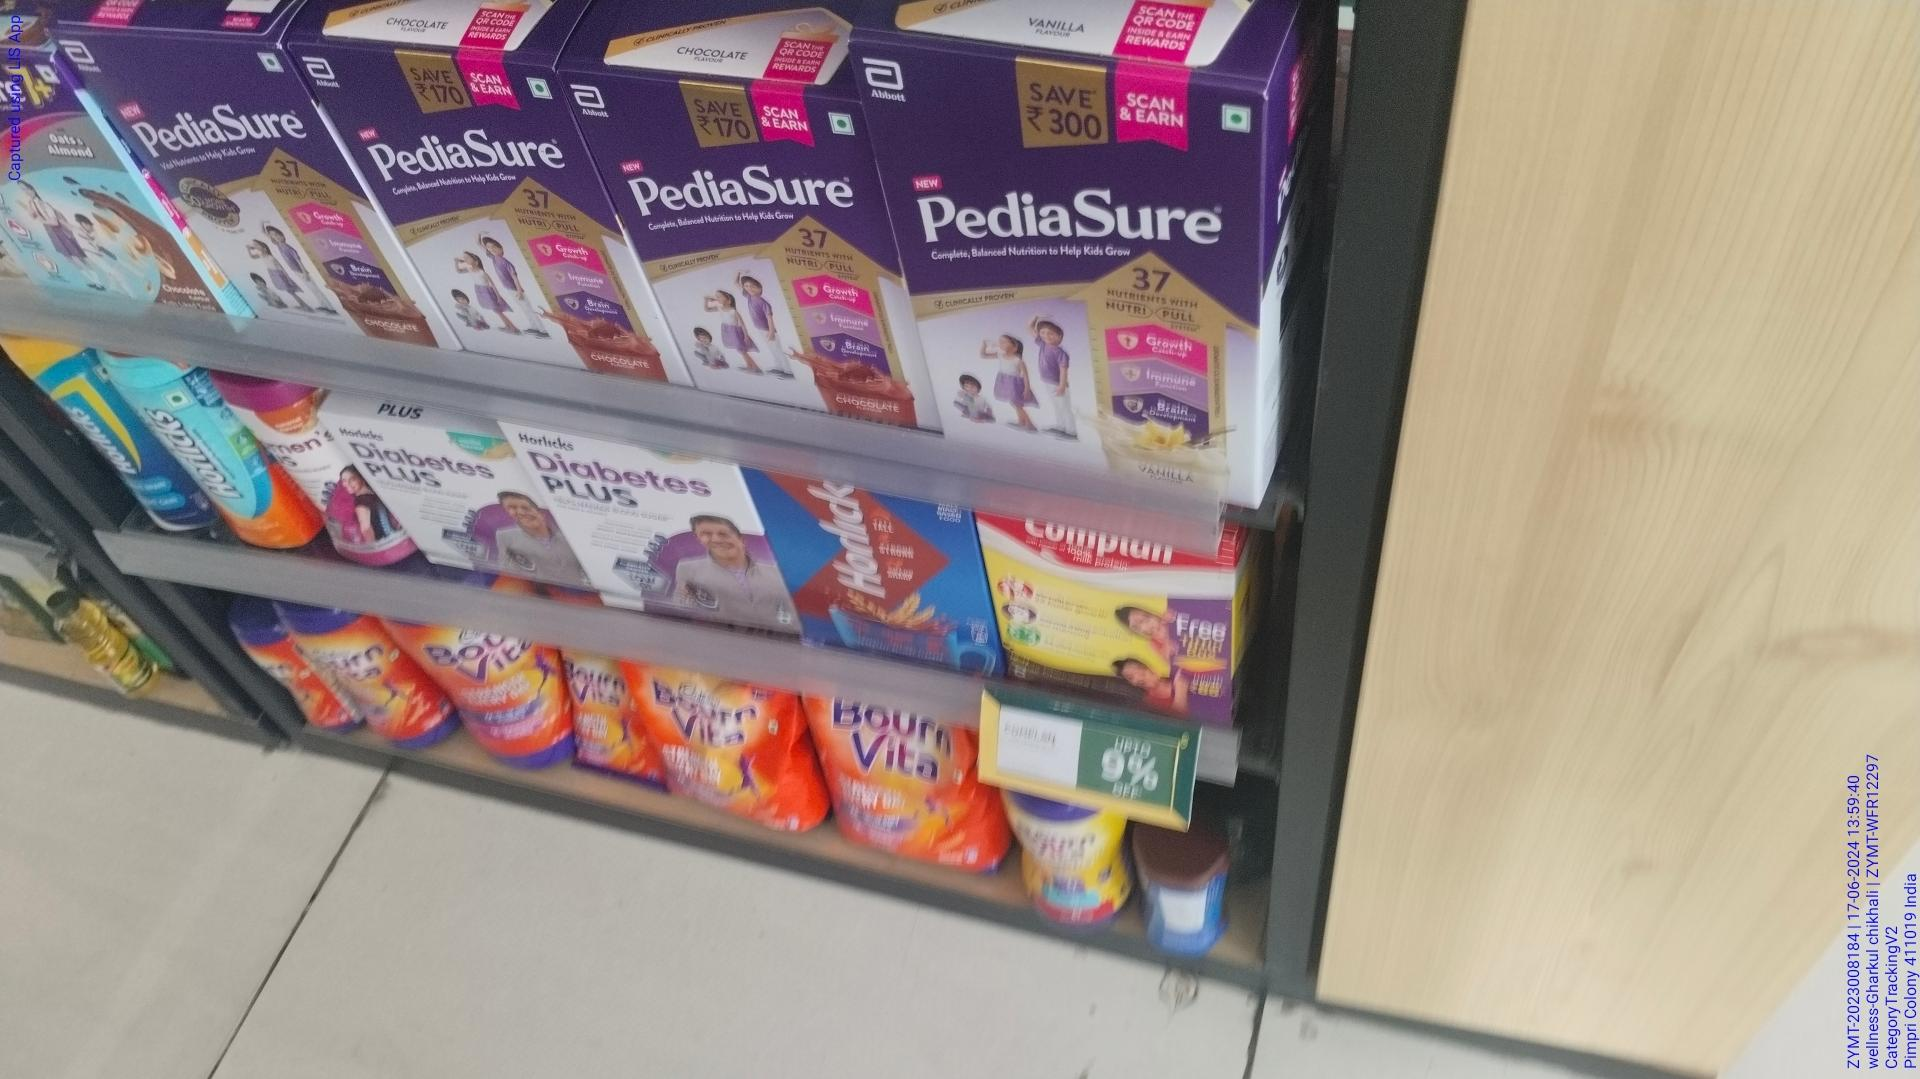PEDIASURE_CHOCOLATE_500_G_PACK: (622, 78, 891, 426)
PEDIASURE_VANILLA_500_G_PACK: (901, 54, 1259, 489)
